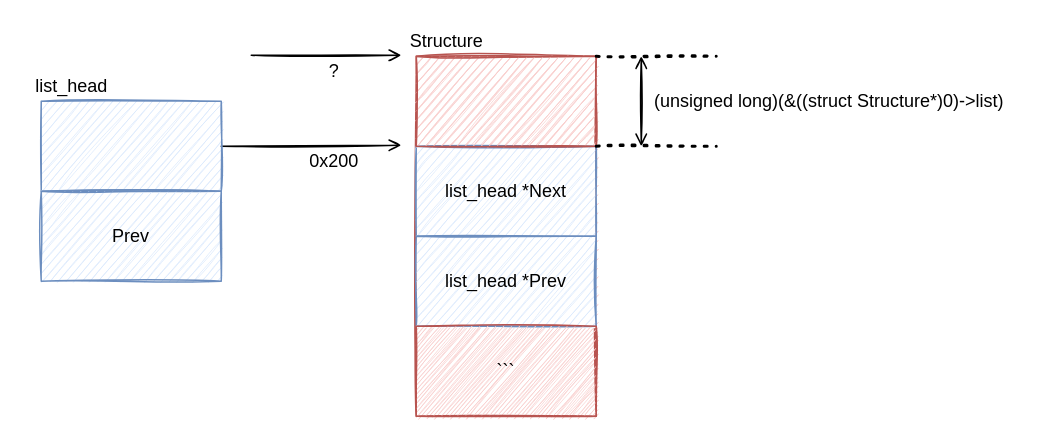
Some shapes in this 1041 by 443 pixel diagram are drawn without their labels. The shapes that lost their labels are listed below. From the top down, each one's centre as x and y in pixels, then its label:
At pixel 505 100: "String".
At pixel 130 145: "Next : 0x200".
